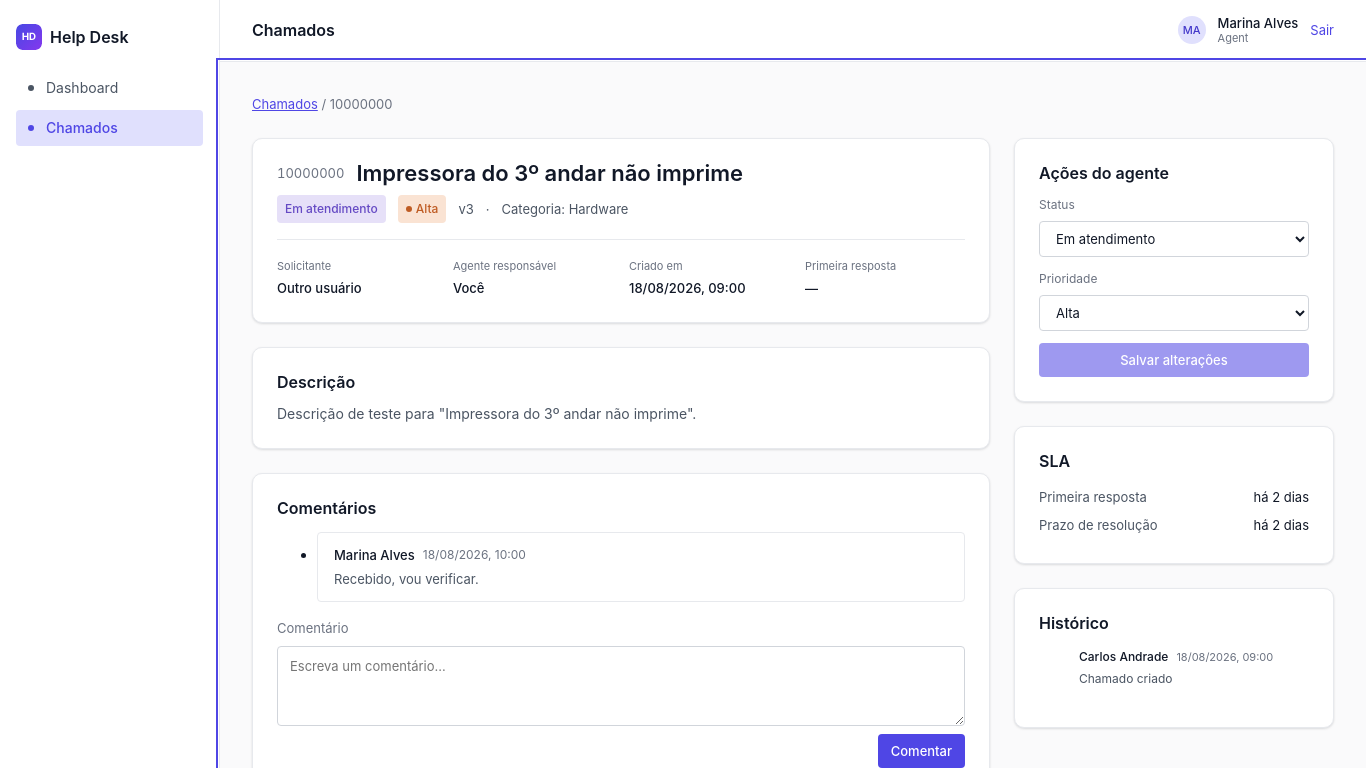
it: WorkflowActions — assumir, status e prioridade › altera a prioridade com sucesso
Select "Crítica" in the dropdown labelled "Prioridade": {"x": 1174, "y": 313} [1039,295,1309,331]
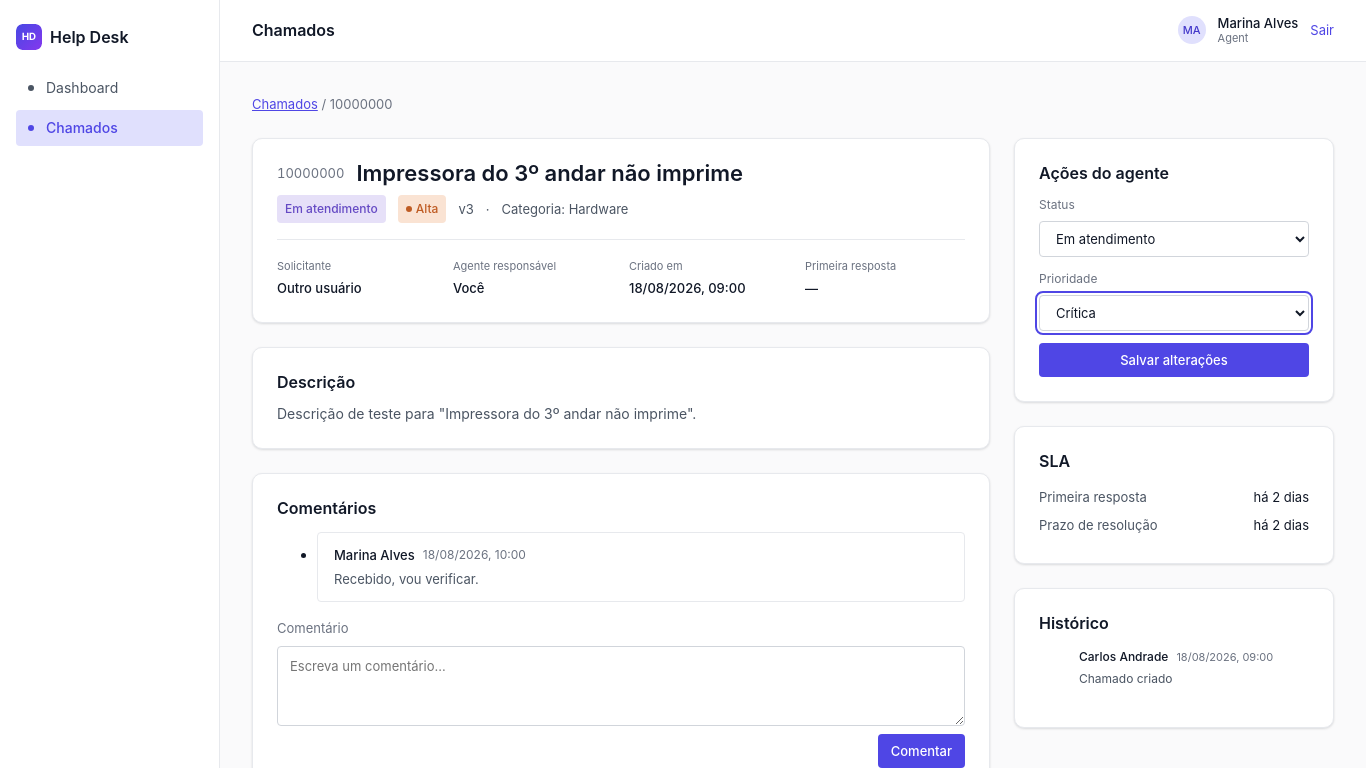
Click the button "Salvar alterações": {"x": 1174, "y": 360} [1039,343,1309,377]
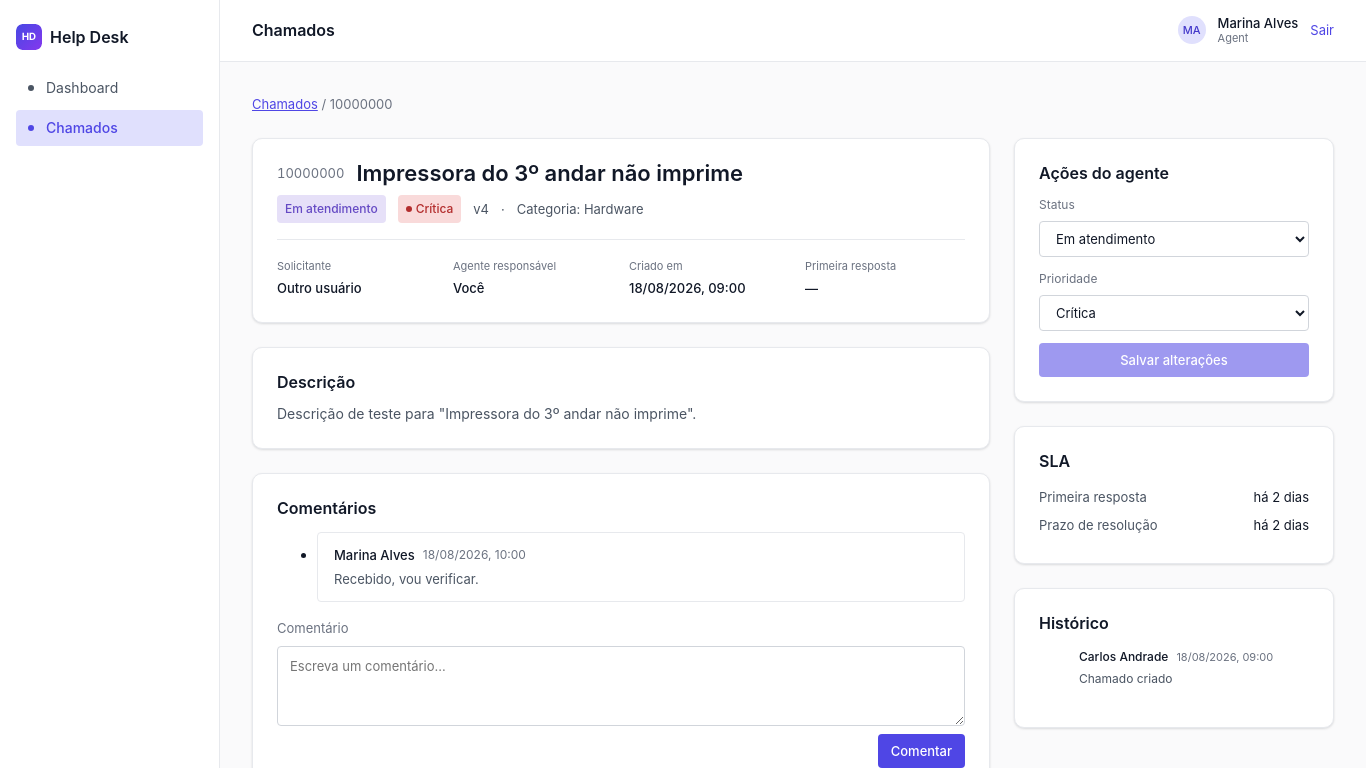
Now the button "Salvar alterações" is disabled, box [1039,343,1309,377]
